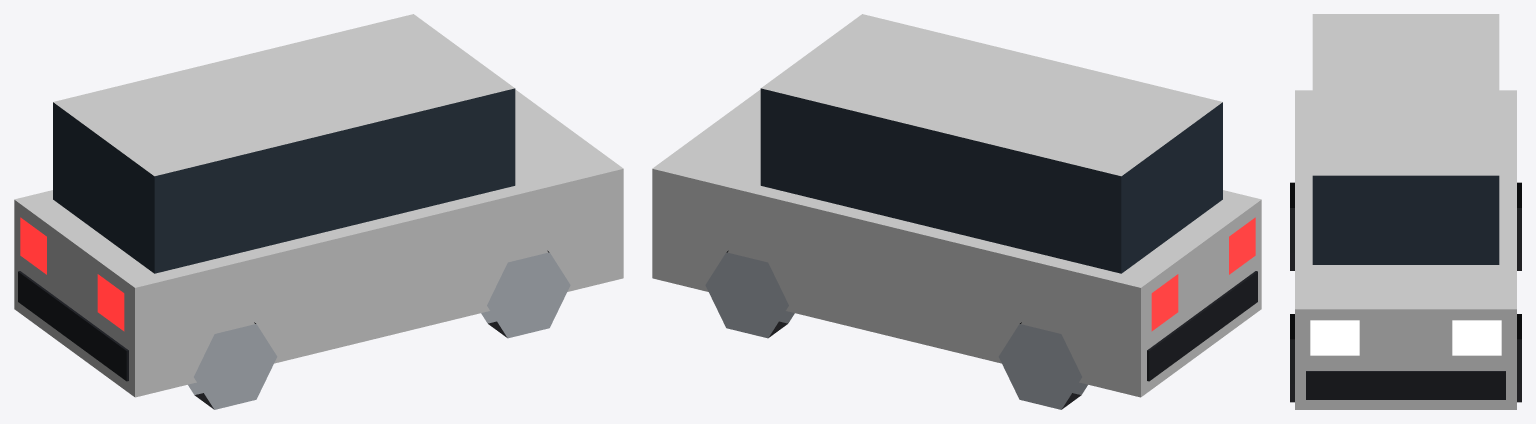
The model's file is car_minivan.glb.
The picture shows the model from 3 angles, left to right: view 1: azimuth 30°, elevation 25°; view 2: azimuth 150°, elevation 25°; view 3: azimuth 270°, elevation 25°; orthographic projection. The views are drawn at different scales.
Visible parts, largest first — view 1: car_minivan; view 2: car_minivan; view 3: car_minivan.
Boxes of the visible parts, x1,y1,x2,y2 form: car_minivan: (14, 14, 623, 409); car_minivan: (652, 14, 1261, 409); car_minivan: (1290, 14, 1521, 409).
Size of the model in its own units: 0.424 by 0.194 by 0.188.
